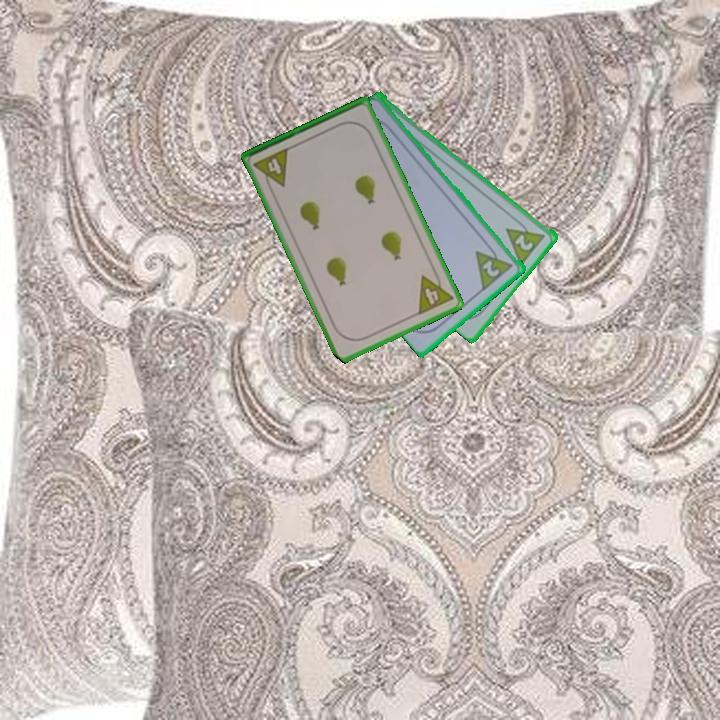2p: (503, 214, 548, 267), (472, 239, 517, 292)
4p: (414, 266, 456, 318), (250, 144, 292, 194)
